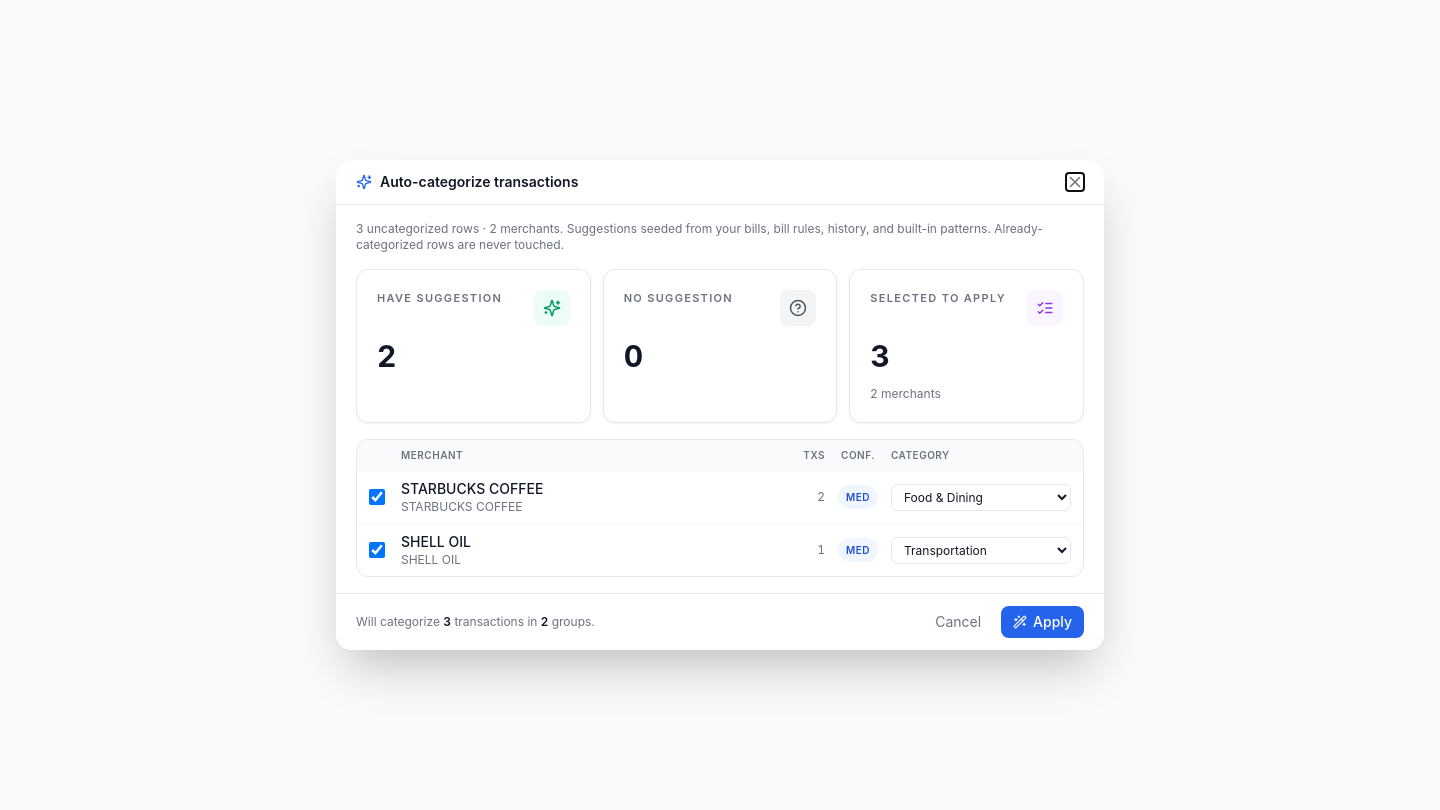
Test case: <AutoCategorizeDialog> › excludes a group from the total when its checkbox is toggled off
This screenshot has width=1440, height=810.
Click the checkbox named "Include STARBUCKS COFFEE in apply". click: (377, 497)
box: [369,489,385,505]
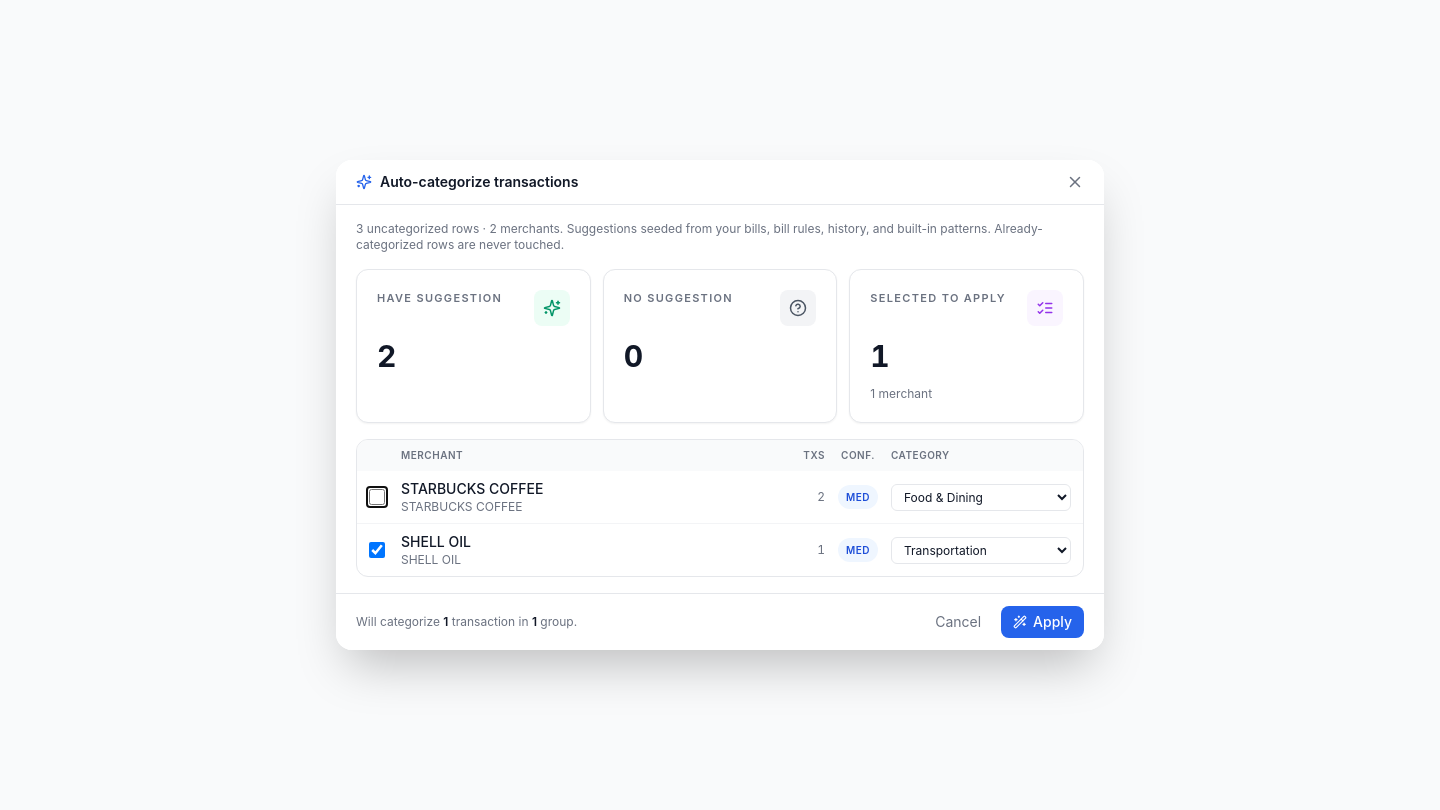
Result: the text "Will categorize 1 transaction in 1 group." is shown at [356,614,577,630]
